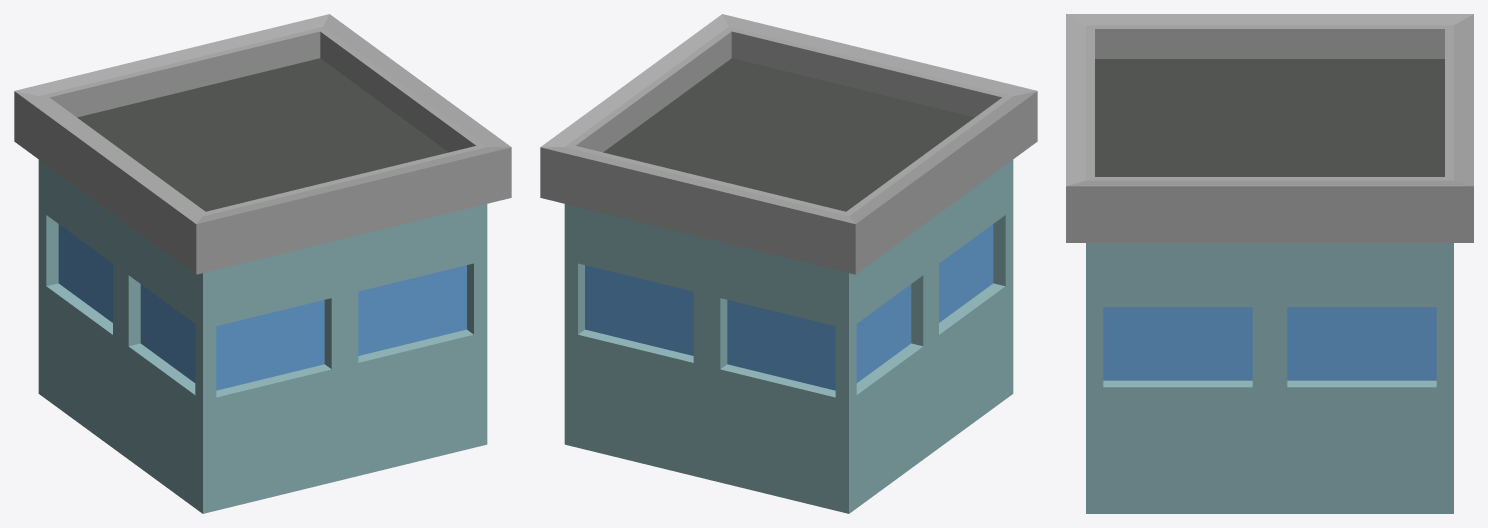
The model's file is building_1x1_2_r_pink.glb.
3 renders of one model, left to right at view 1: azimuth 30°, elevation 25°; view 2: azimuth 150°, elevation 25°; view 3: azimuth 270°, elevation 25°, orthographic. The views are drawn at different scales.
Visible parts, largest first — view 1: Cube.002; view 2: Cube.002; view 3: Cube.002.
Boxes of the visible parts, <box> form: Cube.002: <box>14,14,511,513</box>; Cube.002: <box>540,14,1037,513</box>; Cube.002: <box>1066,14,1473,513</box>.
Bounding box in the file's own units: 1.78 × 1.61 × 1.78.
